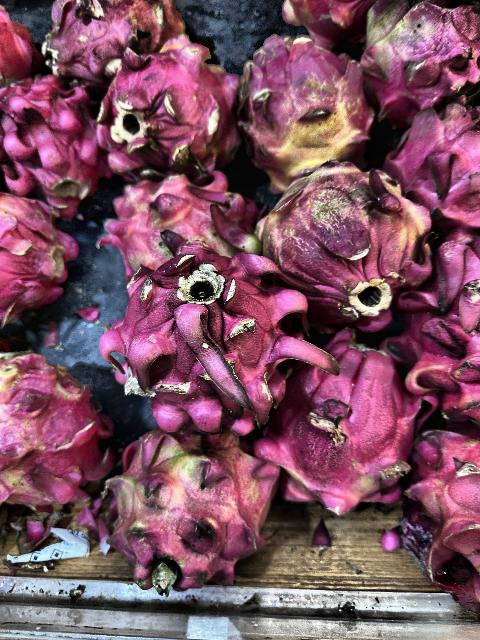buah-naga-belum-matang: (100, 427, 280, 588), (260, 168, 432, 326), (232, 36, 372, 180), (0, 348, 106, 507)
buah-naga-matang: (107, 238, 314, 424), (279, 333, 419, 517), (104, 48, 238, 168), (102, 176, 256, 266), (402, 237, 480, 413), (410, 425, 480, 621), (388, 96, 480, 242), (358, 1, 480, 108), (0, 69, 98, 201), (35, 0, 180, 70), (0, 189, 76, 321)
